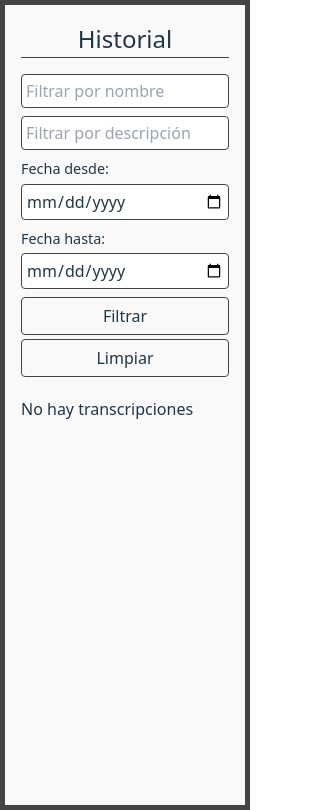
it: Historial - Filtrar por características › debe limpiar filtros al hacer clic en Limpiar
This screenshot has width=320, height=810.
Type "Test" into the field with placeholder "Filtrar por nombre". click: (125, 91)
box: [21,74,229,108]
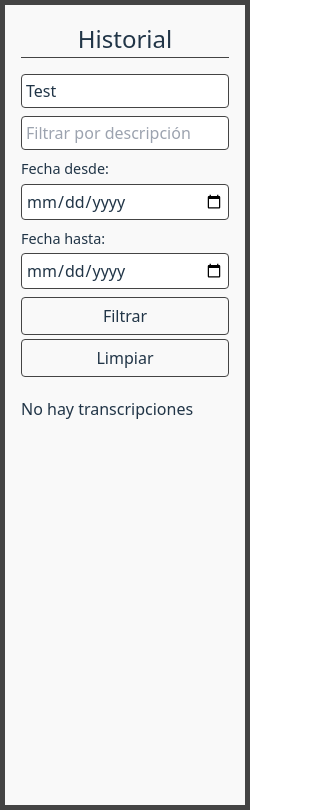
Click the button "Limpiar". click: click(125, 358)
box: [21,339,229,377]
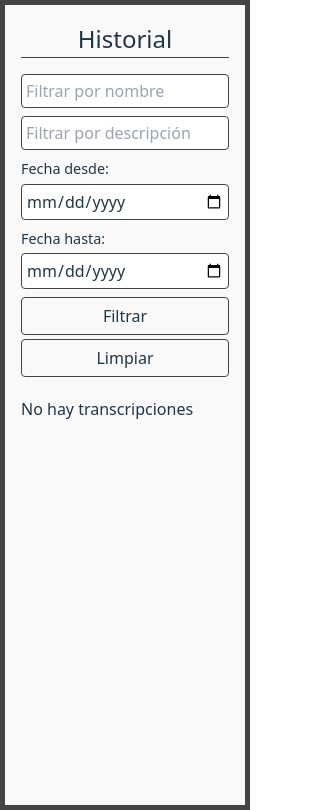
Result: the field with placeholder "Filtrar por nombre" is empty at [21,74,229,108]
